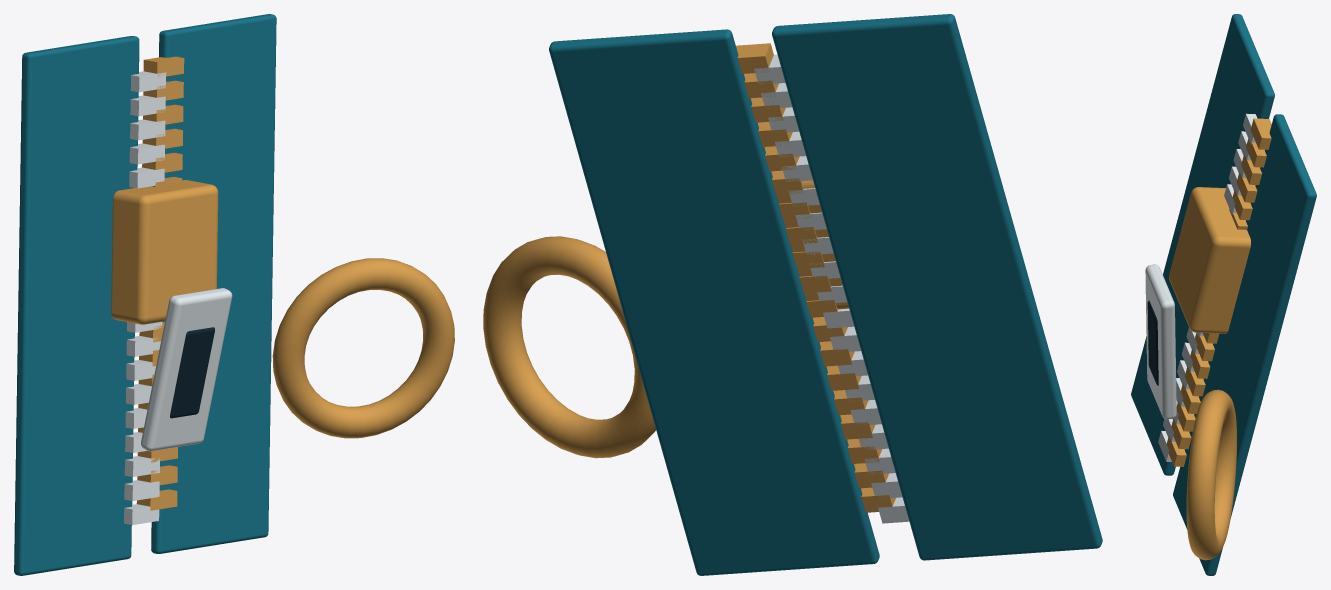
Rendered from metallic-items.glb.
3 renders of one model, left to right at view 1: azimuth 30°, elevation 25°; view 2: azimuth 150°, elevation 25°; view 3: azimuth 270°, elevation 25°, orthographic. The views are drawn at different scales.
Parts seen in each view (by area): view 1: metallic-items; view 2: metallic-items; view 3: metallic-items.
Part boxes in pixels (x1,y1,x2,y2): metallic-items: (14,14,454,575); metallic-items: (483,14,1102,575); metallic-items: (1131,14,1316,575).
Size of the model in its own units: 2.57 by 2.74 by 0.9887.
